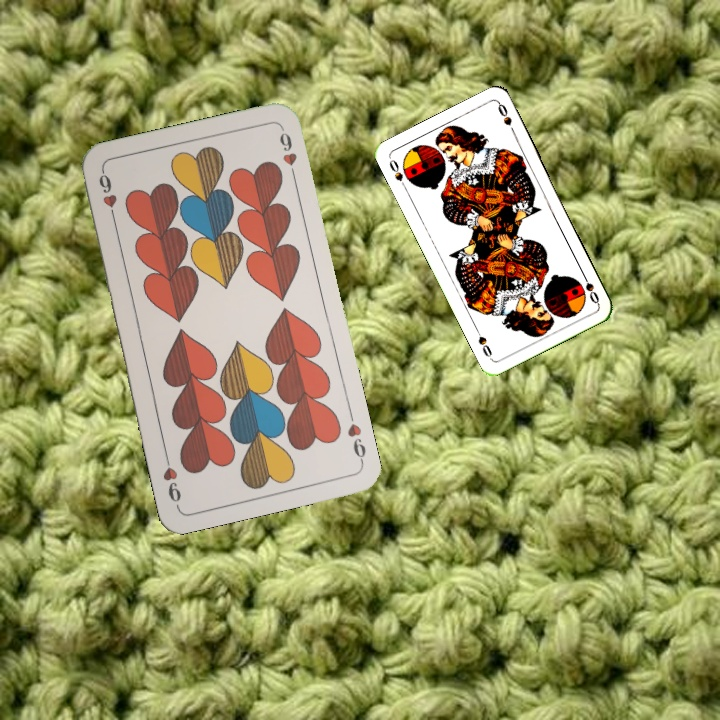H9: (343, 407, 369, 466), (94, 167, 120, 225)
SO: (578, 268, 602, 306), (385, 155, 409, 192)
